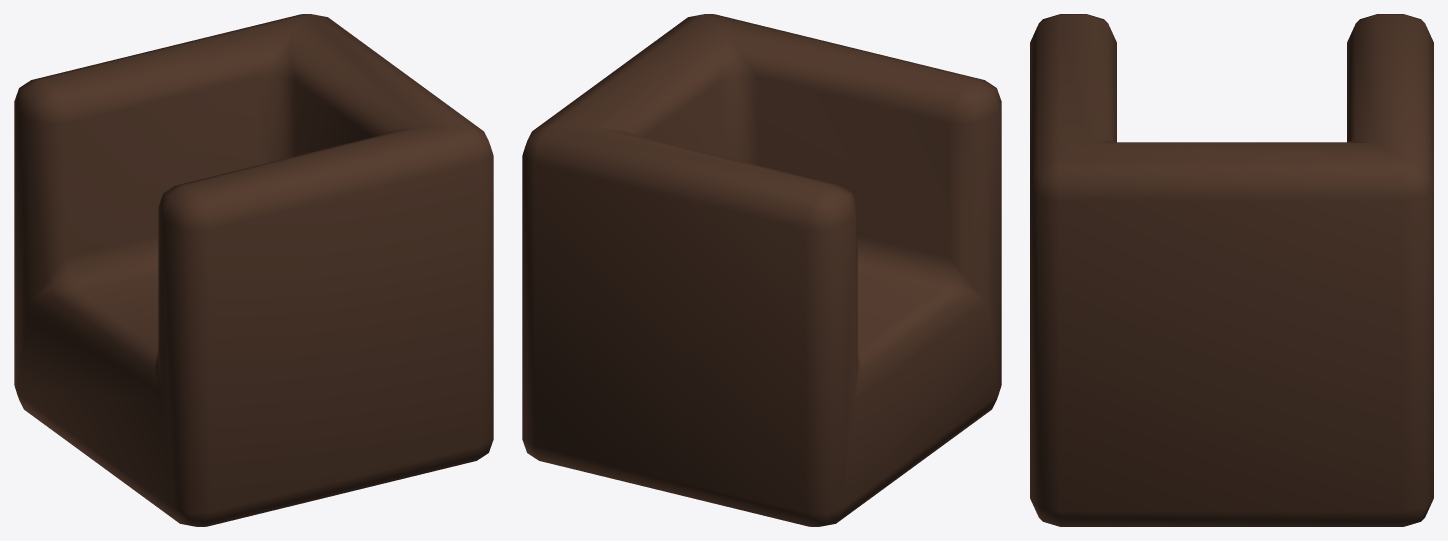
Rendered from ComfyChair.fbx.
3 views of the same model, side by side, from view 1: azimuth 30°, elevation 25°; view 2: azimuth 150°, elevation 25°; view 3: azimuth 270°, elevation 25° (orthographic). The views are drawn at different scales.
Visible parts, largest first — view 1: Cube; view 2: Cube; view 3: Cube.
Part boxes in pixels (left/top/right/bottom): Cube: left=14, top=14, right=493, bottom=526; Cube: left=522, top=14, right=1001, bottom=526; Cube: left=1030, top=14, right=1433, bottom=526.
Size of the model in its own units: 200 by 200 by 200.
